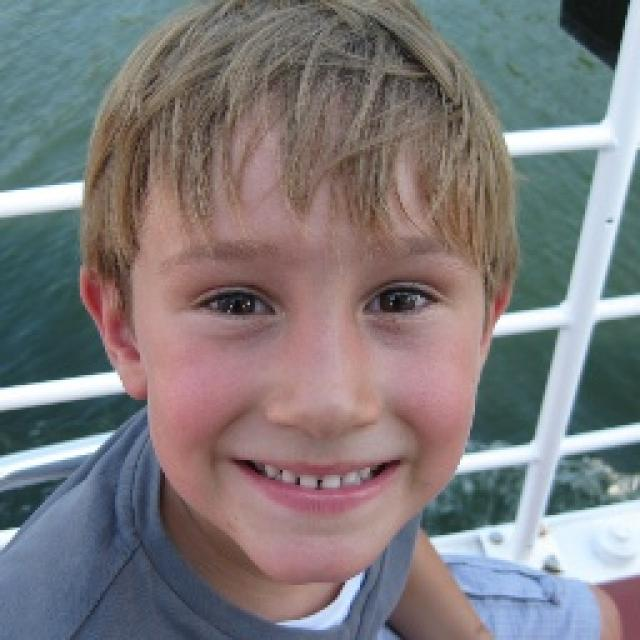earlobe: (120, 351, 151, 403)
eye: (192, 288, 277, 320), (359, 285, 441, 317)
nose: (258, 412, 395, 488)
wholeear: (78, 262, 151, 402)
